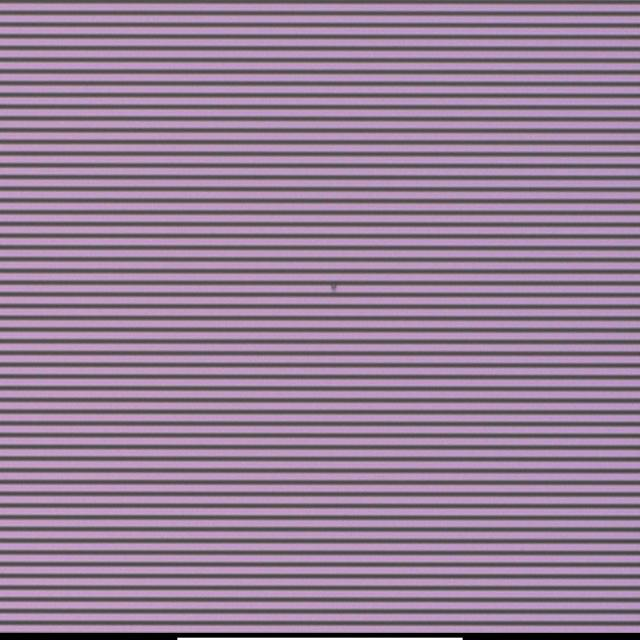nonvisual: (327, 280, 341, 294)
